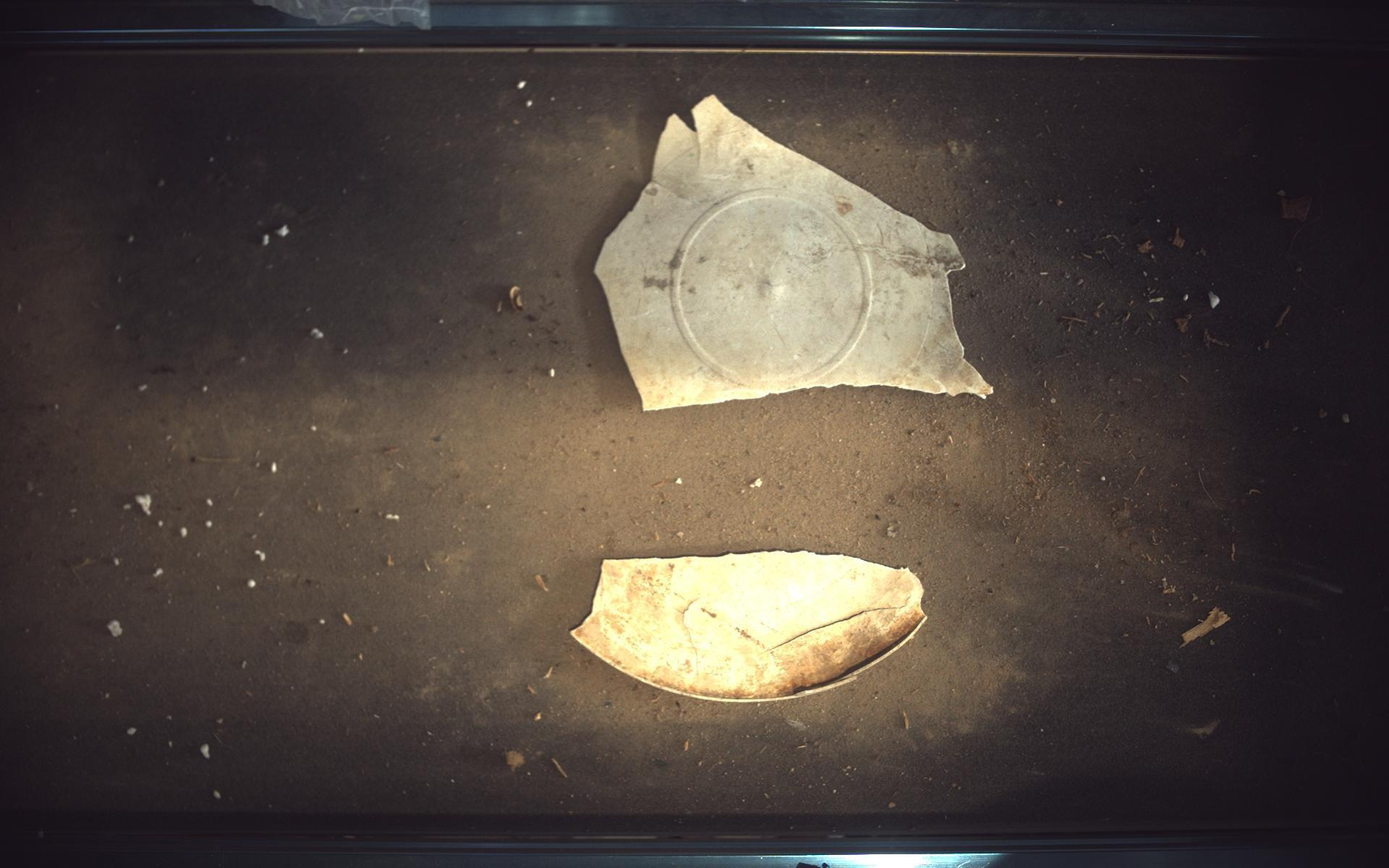plastic: (595, 94, 993, 410), (572, 552, 927, 703)
